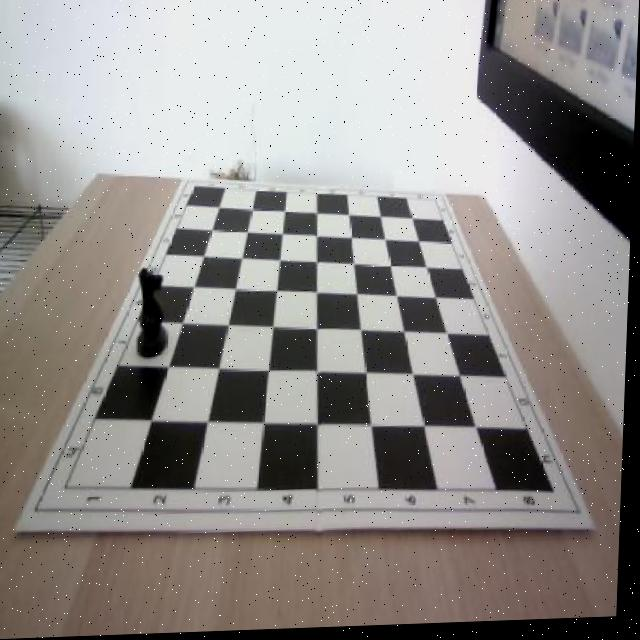black-king: (134, 265, 175, 360)
